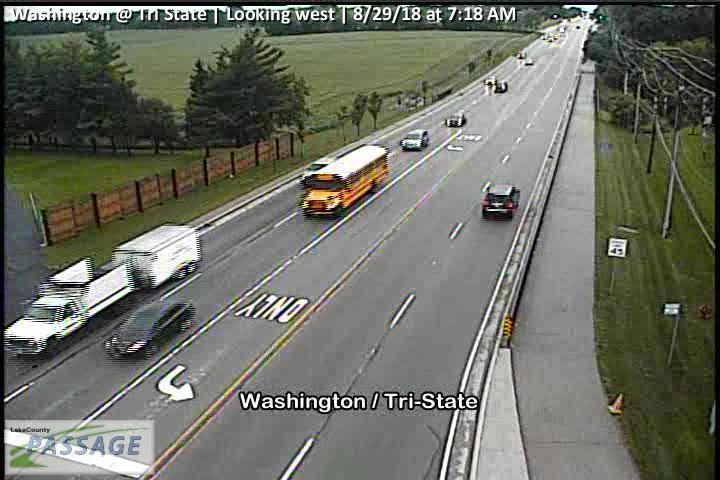Bus: (300, 144, 391, 222)
SUV: (300, 157, 335, 184)
Sedan: (102, 297, 195, 360), (480, 183, 520, 221), (400, 128, 429, 151), (443, 110, 465, 129), (494, 80, 509, 93), (484, 73, 495, 85)
Truck: (3, 223, 203, 357)
